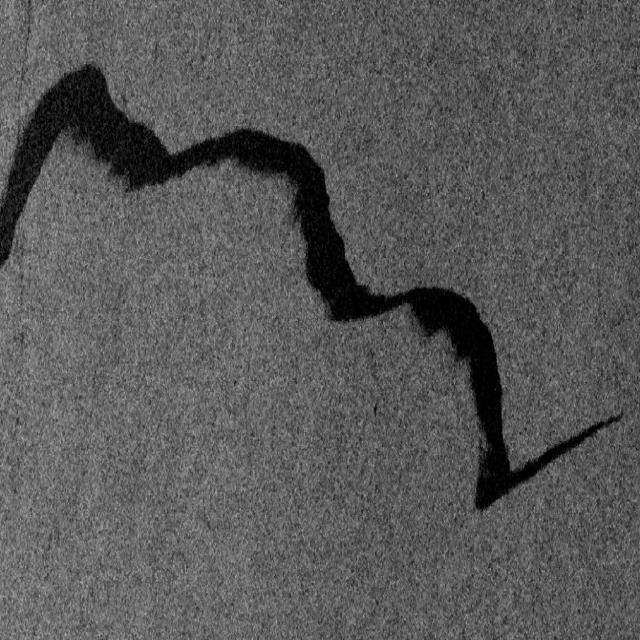oil-spill: (2, 48, 118, 274), (121, 101, 332, 213), (472, 405, 626, 510), (406, 277, 510, 400), (293, 220, 405, 330)
